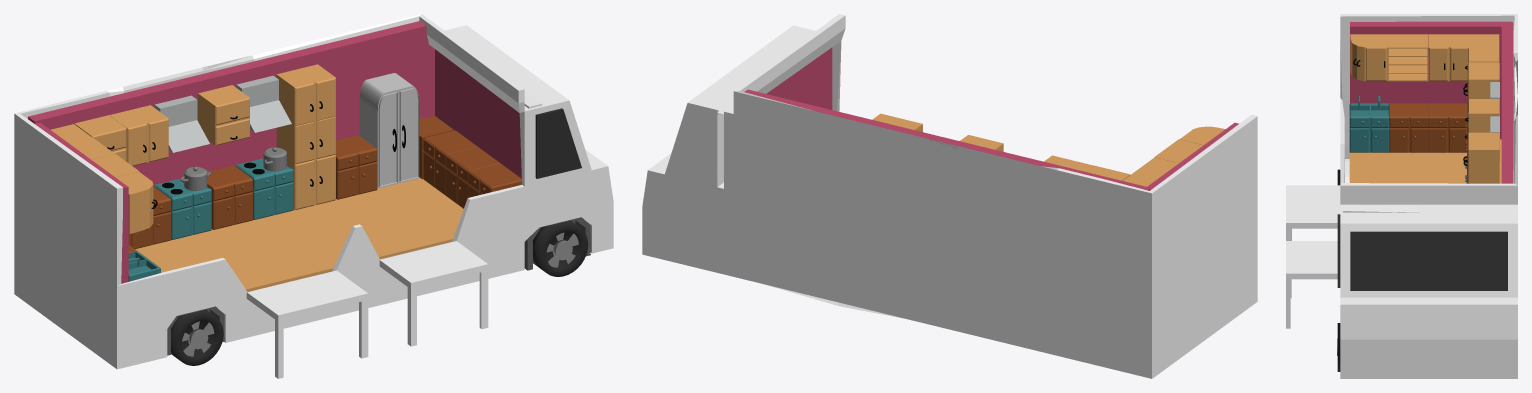
File: Food Truck File.fbx
The picture shows the model from 3 angles, left to right: view 1: azimuth 30°, elevation 25°; view 2: azimuth 150°, elevation 25°; view 3: azimuth 270°, elevation 25°; orthographic projection. The views are drawn at different scales.
Visible parts, largest first — view 1: Truck, Floor, Wall 1.001, Wall 1.002, Wall 1.003, Fridge, Normal Up Cupboard.004, Normal Up Cupboard.003, Front Window, Normal Up Cupboard.002, Normal Cupboard.001, Normal Cupboard.002 (+22 smaller); view 2: Truck, Wall 1.003, Wall 1.001, Shelves, Normal Up Cupboard, Wall 1, Curved Up Cupboard; view 3: Truck, WindScreen, Wall 1, Floor, Wall 1.001, Cube.002, Shelves, Cube.003, Cube.005, Normal Up Cupboard, Curved Up Cupboard, Normal Up Cupboard.004 (+5 smaller).
Boxes of the visible parts, box(x1,y1,x2,y2) form: Truck: box(14, 14, 613, 378); Floor: box(135, 177, 463, 291); Wall 1.001: box(28, 21, 428, 185); Wall 1.002: box(133, 45, 434, 185); Wall 1.003: box(435, 49, 521, 178); Fridge: box(359, 73, 419, 188); Normal Up Cupboard.004: box(276, 64, 335, 126); Normal Up Cupboard.003: box(198, 85, 249, 145); Front Window: box(535, 108, 581, 178); Normal Up Cupboard.002: box(109, 105, 168, 166); Normal Cupboard.001: box(207, 165, 252, 229); Normal Cupboard.002: box(336, 135, 377, 199); Truck: box(642, 14, 1257, 378); Wall 1.003: box(766, 47, 832, 109); Wall 1.001: box(744, 89, 1150, 190); Shelves: box(1154, 139, 1203, 163); Normal Up Cupboard: box(1130, 157, 1178, 179); Wall 1: box(1147, 122, 1238, 190); Curved Up Cupboard: box(1180, 126, 1225, 145); Truck: box(1286, 14, 1517, 378); WindScreen: box(1350, 231, 1507, 290); Wall 1: box(1350, 21, 1511, 139); Floor: box(1349, 139, 1501, 183); Wall 1.001: box(1501, 22, 1513, 183); Cube.002: box(1349, 96, 1389, 152); Shelves: box(1387, 34, 1428, 81); Cube.003: box(1389, 103, 1428, 152); Cube.005: box(1428, 103, 1467, 152); Normal Up Cupboard: box(1429, 34, 1468, 81); Curved Up Cupboard: box(1350, 34, 1387, 81); Normal Up Cupboard.004: box(1467, 132, 1499, 183).
Bounding box in the file's own units: 854 × 1821 × 696.
